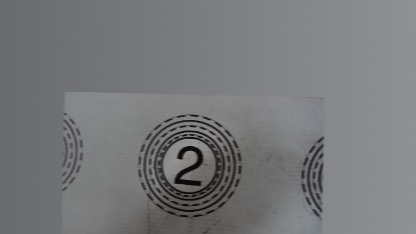2r: (135, 111, 243, 219)
